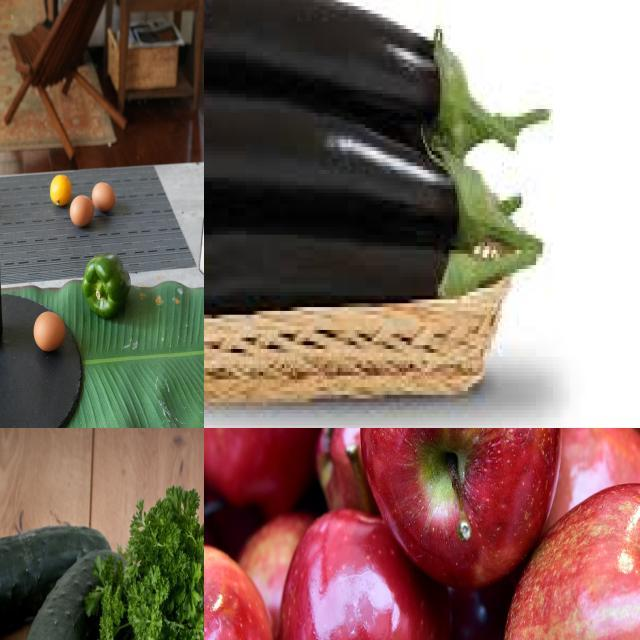bell_pepper: (84, 252, 130, 319)
cucumber: (1, 522, 110, 640), (16, 546, 131, 640)
egg: (31, 309, 66, 355), (92, 179, 120, 218), (71, 194, 97, 231)
eggplant: (205, 87, 481, 243), (205, 1, 462, 121), (205, 175, 501, 270), (205, 232, 479, 316)
